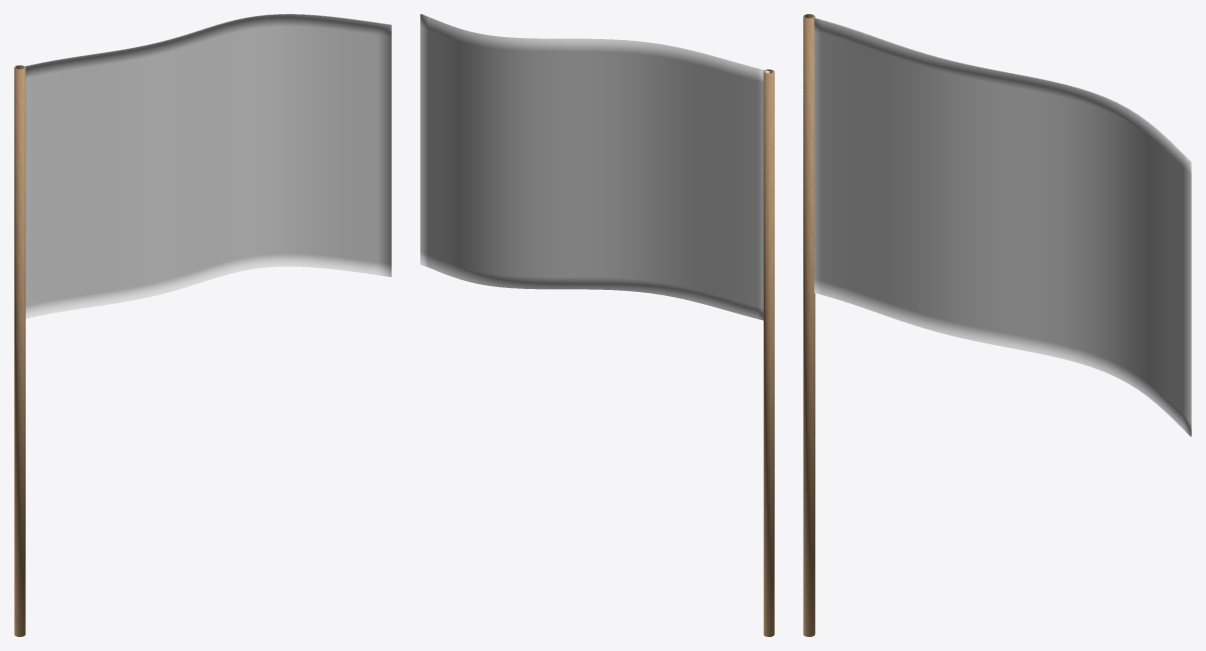
The picture shows the model from 3 angles, left to right: view 1: azimuth 30°, elevation 25°; view 2: azimuth 150°, elevation 25°; view 3: azimuth 330°, elevation 25°; orthographic projection. The views are drawn at different scales.
Visible parts, largest first — view 1: Flag075; view 2: Flag075; view 3: Flag075.
Boxes of the visible parts, bbox=[...] form: Flag075: bbox=[14, 14, 391, 636]; Flag075: bbox=[420, 14, 774, 636]; Flag075: bbox=[803, 14, 1191, 636].
Bounding box in the file's own units: 0.304 × 0.45 × 0.0328.
Materials: 2 (1 with a texture image).
